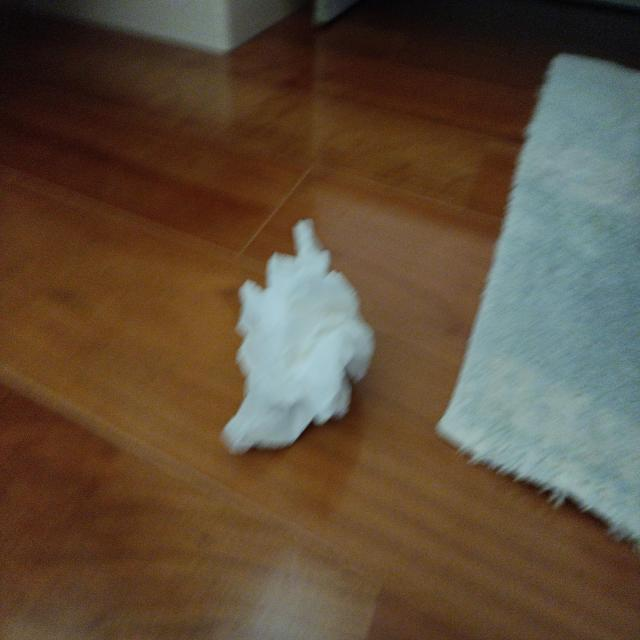Paper: (232, 209, 382, 482)
